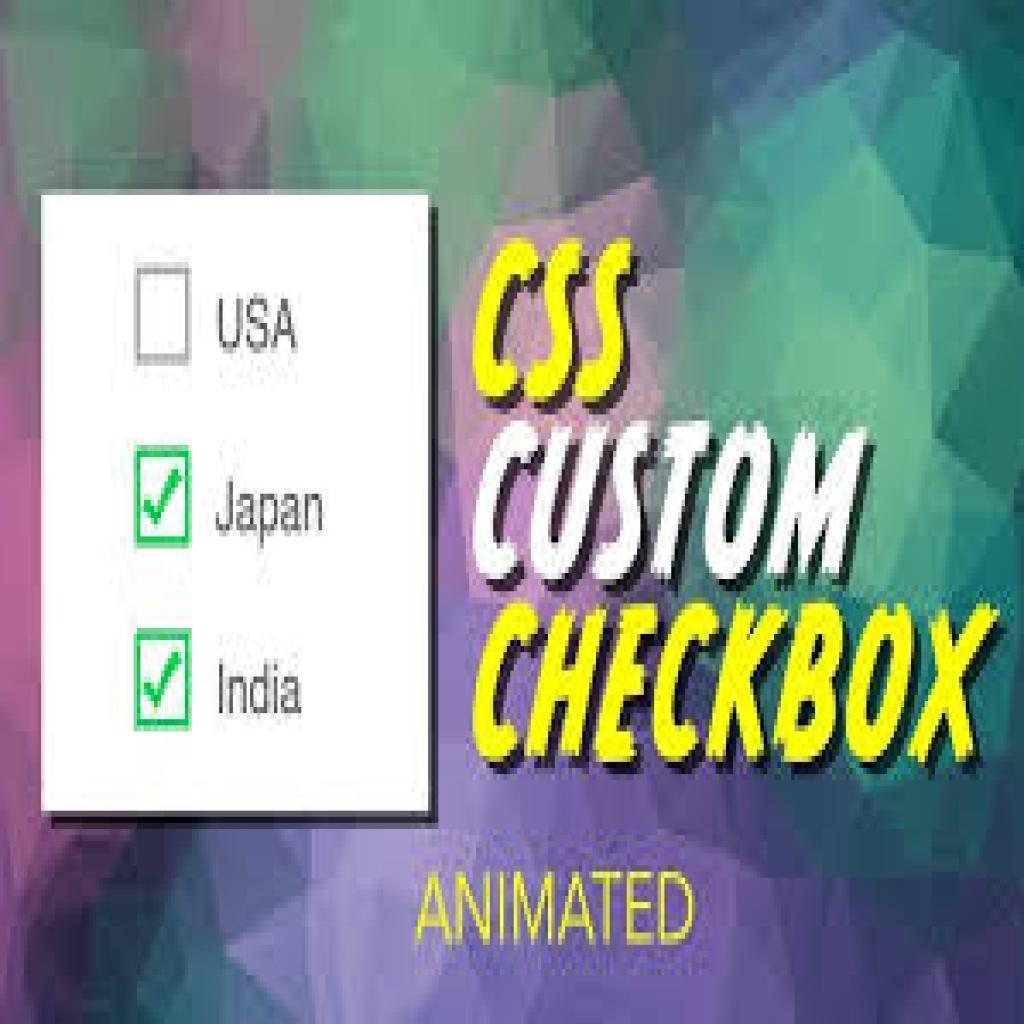checkbox: (135, 633, 193, 728), (138, 447, 189, 551), (137, 268, 191, 364)
